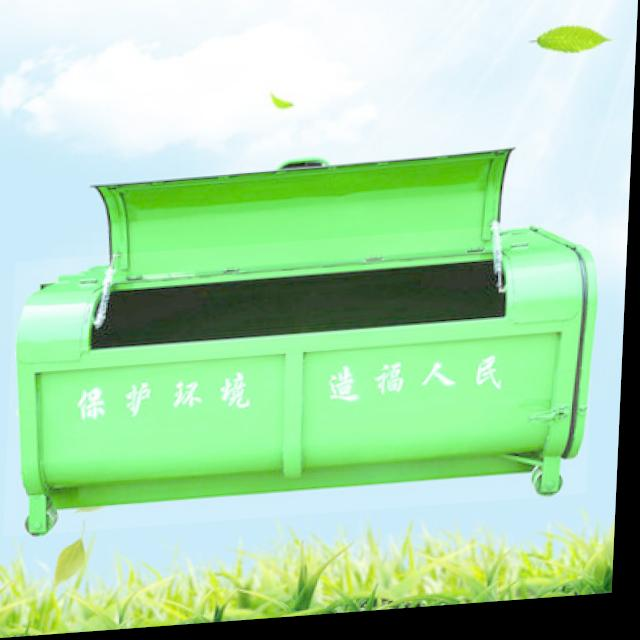garbage_bin: (8, 228, 601, 537)
